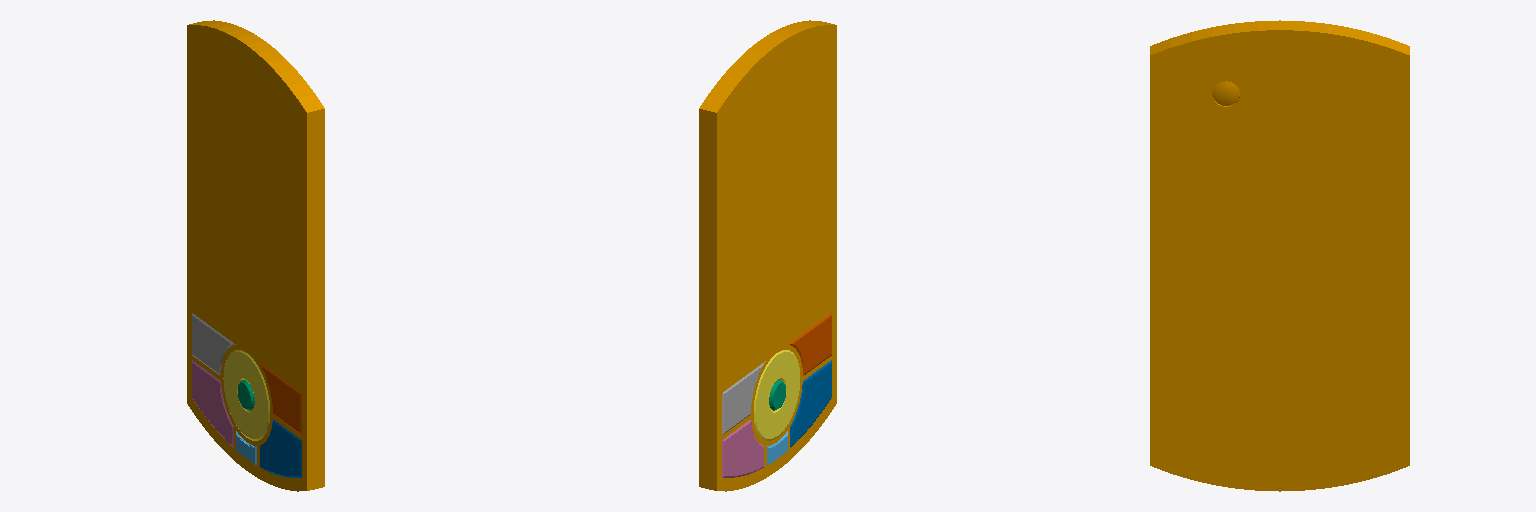
robot.urdf — partnet_7bdffa69c49eb1d7bf653fdedcac4c5b-4:
<?xml version="1.0" ?>
<robot name="partnet_7bdffa69c49eb1d7bf653fdedcac4c5b-4">
	<link name="base"/>
	<link name="link_0">
		<visual name="button-1">
			<origin xyz="0 0 0"/>
			<geometry>
				<mesh filename="textured_objs/original-29.obj"/>
			</geometry>
		</visual>
		<visual name="button-1">
			<origin xyz="0 0 0"/>
			<geometry>
				<mesh filename="textured_objs/original-19.obj"/>
			</geometry>
		</visual>
		<collision>
			<origin xyz="0 0 0"/>
			<geometry>
				<mesh filename="textured_objs/original-29.obj"/>
			</geometry>
		</collision>
		<collision>
			<origin xyz="0 0 0"/>
			<geometry>
				<mesh filename="textured_objs/original-19.obj"/>
			</geometry>
		</collision>
	</link>
	<joint name="joint_0" type="prismatic">
		<origin xyz="0 0 0"/>
		<axis xyz="0 0 -1"/>
		<child link="link_0"/>
		<parent link="link_7"/>
		<limit lower="0" upper="0.005"/>
	</joint>
	<link name="link_1">
		<visual name="button-2">
			<origin xyz="0 0 0"/>
			<geometry>
				<mesh filename="textured_objs/original-1.obj"/>
			</geometry>
		</visual>
		<collision>
			<origin xyz="0 0 0"/>
			<geometry>
				<mesh filename="textured_objs/original-1.obj"/>
			</geometry>
		</collision>
	</link>
	<joint name="joint_1" type="prismatic">
		<origin xyz="0 0 0"/>
		<axis xyz="0 0 -1"/>
		<child link="link_1"/>
		<parent link="link_7"/>
		<limit lower="0" upper="0.005"/>
	</joint>
	<link name="link_2">
		<visual name="button-3">
			<origin xyz="0 0 0"/>
			<geometry>
				<mesh filename="textured_objs/original-8.obj"/>
			</geometry>
		</visual>
		<collision>
			<origin xyz="0 0 0"/>
			<geometry>
				<mesh filename="textured_objs/original-8.obj"/>
			</geometry>
		</collision>
	</link>
	<joint name="joint_2" type="prismatic">
		<origin xyz="0 0 0"/>
		<axis xyz="0 0 -1"/>
		<child link="link_2"/>
		<parent link="link_7"/>
		<limit lower="0" upper="0.005"/>
	</joint>
	<link name="link_3">
		<visual name="button-4">
			<origin xyz="0 0 0"/>
			<geometry>
				<mesh filename="textured_objs/original-25.obj"/>
			</geometry>
		</visual>
		<visual name="button-4">
			<origin xyz="0 0 0"/>
			<geometry>
				<mesh filename="textured_objs/original-17.obj"/>
			</geometry>
		</visual>
		<collision>
			<origin xyz="0 0 0"/>
			<geometry>
				<mesh filename="textured_objs/original-25.obj"/>
			</geometry>
		</collision>
		<collision>
			<origin xyz="0 0 0"/>
			<geometry>
				<mesh filename="textured_objs/original-17.obj"/>
			</geometry>
		</collision>
	</link>
	<joint name="joint_3" type="prismatic">
		<origin xyz="0 0 0"/>
		<axis xyz="0 0 -1"/>
		<child link="link_3"/>
		<parent link="link_7"/>
		<limit lower="0" upper="0.005"/>
	</joint>
	<link name="link_4">
		<visual name="button-5">
			<origin xyz="0 0 0"/>
			<geometry>
				<mesh filename="textured_objs/original-18.obj"/>
			</geometry>
		</visual>
		<visual name="button-5">
			<origin xyz="0 0 0"/>
			<geometry>
				<mesh filename="textured_objs/original-24.obj"/>
			</geometry>
		</visual>
		<collision>
			<origin xyz="0 0 0"/>
			<geometry>
				<mesh filename="textured_objs/original-18.obj"/>
			</geometry>
		</collision>
		<collision>
			<origin xyz="0 0 0"/>
			<geometry>
				<mesh filename="textured_objs/original-24.obj"/>
			</geometry>
		</collision>
	</link>
	<joint name="joint_4" type="prismatic">
		<origin xyz="0 0 0"/>
		<axis xyz="0 0 -1"/>
		<child link="link_4"/>
		<parent link="link_7"/>
		<limit lower="0" upper="0.005"/>
	</joint>
	<link name="link_5">
		<visual name="button-6">
			<origin xyz="0 0 0"/>
			<geometry>
				<mesh filename="textured_objs/original-20.obj"/>
			</geometry>
		</visual>
		<visual name="button-6">
			<origin xyz="0 0 0"/>
			<geometry>
				<mesh filename="textured_objs/original-15.obj"/>
			</geometry>
		</visual>
		<collision>
			<origin xyz="0 0 0"/>
			<geometry>
				<mesh filename="textured_objs/original-20.obj"/>
			</geometry>
		</collision>
		<collision>
			<origin xyz="0 0 0"/>
			<geometry>
				<mesh filename="textured_objs/original-15.obj"/>
			</geometry>
		</collision>
	</link>
	<joint name="joint_5" type="prismatic">
		<origin xyz="0 0 0"/>
		<axis xyz="0 0 -1"/>
		<child link="link_5"/>
		<parent link="link_7"/>
		<limit lower="0" upper="0.005"/>
	</joint>
	<link name="link_6">
		<visual name="button-7">
			<origin xyz="0 0 0"/>
			<geometry>
				<mesh filename="textured_objs/original-16.obj"/>
			</geometry>
		</visual>
		<visual name="button-7">
			<origin xyz="0 0 0"/>
			<geometry>
				<mesh filename="textured_objs/original-23.obj"/>
			</geometry>
		</visual>
		<collision>
			<origin xyz="0 0 0"/>
			<geometry>
				<mesh filename="textured_objs/original-16.obj"/>
			</geometry>
		</collision>
		<collision>
			<origin xyz="0 0 0"/>
			<geometry>
				<mesh filename="textured_objs/original-23.obj"/>
			</geometry>
		</collision>
	</link>
	<joint name="joint_6" type="prismatic">
		<origin xyz="0 0 0"/>
		<axis xyz="0 0 -1"/>
		<child link="link_6"/>
		<parent link="link_7"/>
		<limit lower="0" upper="0.005"/>
	</joint>
	<link name="link_7">
		<visual name="base_body-8">
			<origin xyz="0 0 0"/>
			<geometry>
				<mesh filename="textured_objs/original-21.obj"/>
			</geometry>
		</visual>
		<visual name="base_body-8">
			<origin xyz="0 0 0"/>
			<geometry>
				<mesh filename="textured_objs/original-30.obj"/>
			</geometry>
		</visual>
		<visual name="base_body-8">
			<origin xyz="0 0 0"/>
			<geometry>
				<mesh filename="textured_objs/original-28.obj"/>
			</geometry>
		</visual>
		<visual name="base_body-8">
			<origin xyz="0 0 0"/>
			<geometry>
				<mesh filename="textured_objs/original-22.obj"/>
			</geometry>
		</visual>
		<visual name="base_body-8">
			<origin xyz="0 0 0"/>
			<geometry>
				<mesh filename="textured_objs/original-26.obj"/>
			</geometry>
		</visual>
		<visual name="base_body-8">
			<origin xyz="0 0 0"/>
			<geometry>
				<mesh filename="textured_objs/original-4.obj"/>
			</geometry>
		</visual>
		<visual name="base_body-8">
			<origin xyz="0 0 0"/>
			<geometry>
				<mesh filename="textured_objs/original-3.obj"/>
			</geometry>
		</visual>
		<visual name="base_body-8">
			<origin xyz="0 0 0"/>
			<geometry>
				<mesh filename="textured_objs/original-33.obj"/>
			</geometry>
		</visual>
		<visual name="base_body-8">
			<origin xyz="0 0 0"/>
			<geometry>
				<mesh filename="textured_objs/original-2.obj"/>
			</geometry>
		</visual>
		<visual name="base_body-8">
			<origin xyz="0 0 0"/>
			<geometry>
				<mesh filename="textured_objs/original-13.obj"/>
			</geometry>
		</visual>
		<visual name="base_body-8">
			<origin xyz="0 0 0"/>
			<geometry>
				<mesh filename="textured_objs/original-9.obj"/>
			</geometry>
		</visual>
		<visual name="base_body-8">
			<origin xyz="0 0 0"/>
			<geometry>
				<mesh filename="textured_objs/original-5.obj"/>
			</geometry>
		</visual>
		<visual name="base_body-8">
			<origin xyz="0 0 0"/>
			<geometry>
				<mesh filename="textured_objs/original-27.obj"/>
			</geometry>
		</visual>
		<visual name="base_body-8">
			<origin xyz="0 0 0"/>
			<geometry>
				<mesh filename="textured_objs/original-6.obj"/>
			</geometry>
		</visual>
		<visual name="base_body-8">
			<origin xyz="0 0 0"/>
			<geometry>
				<mesh filename="textured_objs/original-31.obj"/>
			</geometry>
		</visual>
		<visual name="base_body-8">
			<origin xyz="0 0 0"/>
			<geometry>
				<mesh filename="textured_objs/original-11.obj"/>
			</geometry>
		</visual>
		<visual name="base_body-8">
			<origin xyz="0 0 0"/>
			<geometry>
				<mesh filename="textured_objs/original-34.obj"/>
			</geometry>
		</visual>
		<visual name="base_body-8">
			<origin xyz="0 0 0"/>
			<geometry>
				<mesh filename="textured_objs/original-12.obj"/>
			</geometry>
		</visual>
		<visual name="base_body-8">
			<origin xyz="0 0 0"/>
			<geometry>
				<mesh filename="textured_objs/original-32.obj"/>
			</geometry>
		</visual>
		<visual name="base_body-8">
			<origin xyz="0 0 0"/>
			<geometry>
				<mesh filename="textured_objs/original-7.obj"/>
			</geometry>
		</visual>
		<visual name="base_body-8">
			<origin xyz="0 0 0"/>
			<geometry>
				<mesh filename="textured_objs/original-10.obj"/>
			</geometry>
		</visual>
		<visual name="base_body-8">
			<origin xyz="0 0 0"/>
			<geometry>
				<mesh filename="textured_objs/original-14.obj"/>
			</geometry>
		</visual>
		<collision>
			<origin xyz="0 0 0"/>
			<geometry>
				<mesh filename="textured_objs/original-21.obj"/>
			</geometry>
		</collision>
		<collision>
			<origin xyz="0 0 0"/>
			<geometry>
				<mesh filename="textured_objs/original-30.obj"/>
			</geometry>
		</collision>
		<collision>
			<origin xyz="0 0 0"/>
			<geometry>
				<mesh filename="textured_objs/original-28.obj"/>
			</geometry>
		</collision>
		<collision>
			<origin xyz="0 0 0"/>
			<geometry>
				<mesh filename="textured_objs/original-22.obj"/>
			</geometry>
		</collision>
		<collision>
			<origin xyz="0 0 0"/>
			<geometry>
				<mesh filename="textured_objs/original-26.obj"/>
			</geometry>
		</collision>
		<collision>
			<origin xyz="0 0 0"/>
			<geometry>
				<mesh filename="textured_objs/original-4.obj"/>
			</geometry>
		</collision>
		<collision>
			<origin xyz="0 0 0"/>
			<geometry>
				<mesh filename="textured_objs/original-3.obj"/>
			</geometry>
		</collision>
		<collision>
			<origin xyz="0 0 0"/>
			<geometry>
				<mesh filename="textured_objs/original-33.obj"/>
			</geometry>
		</collision>
		<collision>
			<origin xyz="0 0 0"/>
			<geometry>
				<mesh filename="textured_objs/original-2.obj"/>
			</geometry>
		</collision>
		<collision>
			<origin xyz="0 0 0"/>
			<geometry>
				<mesh filename="textured_objs/original-13.obj"/>
			</geometry>
		</collision>
		<collision>
			<origin xyz="0 0 0"/>
			<geometry>
				<mesh filename="textured_objs/original-9.obj"/>
			</geometry>
		</collision>
		<collision>
			<origin xyz="0 0 0"/>
			<geometry>
				<mesh filename="textured_objs/original-5.obj"/>
			</geometry>
		</collision>
		<collision>
			<origin xyz="0 0 0"/>
			<geometry>
				<mesh filename="textured_objs/original-27.obj"/>
			</geometry>
		</collision>
		<collision>
			<origin xyz="0 0 0"/>
			<geometry>
				<mesh filename="textured_objs/original-6.obj"/>
			</geometry>
		</collision>
		<collision>
			<origin xyz="0 0 0"/>
			<geometry>
				<mesh filename="textured_objs/original-31.obj"/>
			</geometry>
		</collision>
		<collision>
			<origin xyz="0 0 0"/>
			<geometry>
				<mesh filename="textured_objs/original-11.obj"/>
			</geometry>
		</collision>
		<collision>
			<origin xyz="0 0 0"/>
			<geometry>
				<mesh filename="textured_objs/original-34.obj"/>
			</geometry>
		</collision>
		<collision>
			<origin xyz="0 0 0"/>
			<geometry>
				<mesh filename="textured_objs/original-12.obj"/>
			</geometry>
		</collision>
		<collision>
			<origin xyz="0 0 0"/>
			<geometry>
				<mesh filename="textured_objs/original-32.obj"/>
			</geometry>
		</collision>
		<collision>
			<origin xyz="0 0 0"/>
			<geometry>
				<mesh filename="textured_objs/original-7.obj"/>
			</geometry>
		</collision>
		<collision>
			<origin xyz="0 0 0"/>
			<geometry>
				<mesh filename="textured_objs/original-10.obj"/>
			</geometry>
		</collision>
		<collision>
			<origin xyz="0 0 0"/>
			<geometry>
				<mesh filename="textured_objs/original-14.obj"/>
			</geometry>
		</collision>
	</link>
	<joint name="joint_7" type="fixed">
		<origin rpy="1.570796326794897 0 -1.570796326794897" xyz="0 0 0"/>
		<child link="link_7"/>
		<parent link="base"/>
	</joint>
</robot>

--- Facts derived from the render (not from the file) ---
The picture shows the robot from 3 angles, left to right: view 1: azimuth 30°, elevation 25°; view 2: azimuth 150°, elevation 25°; view 3: azimuth 270°, elevation 25°; orthographic projection.
Model partnet_7bdffa69c49eb1d7bf653fdedcac4c5b-4 with 9 links and 8 joints (7 prismatic, 1 fixed), rooted at base, posed all joints at 0.
Links seen in each view (by area): view 1: link_7, link_2, link_3, link_5, link_4, link_6; view 2: link_7, link_2, link_5, link_3, link_6, link_4; view 3: link_7.
Link boxes in pixels (x1=…): link_7: x1=187, y1=20, x2=324, y2=491; link_2: x1=223, y1=350, x2=269, y2=440; link_3: x1=260, y1=420, x2=301, y2=477; link_5: x1=192, y1=360, x2=233, y2=447; link_4: x1=258, y1=361, x2=301, y2=434; link_6: x1=192, y1=313, x2=235, y2=375; link_7: x1=699, y1=20, x2=836, y2=491; link_2: x1=754, y1=350, x2=800, y2=440; link_5: x1=722, y1=420, x2=763, y2=477; link_3: x1=790, y1=360, x2=831, y2=447; link_6: x1=722, y1=361, x2=765, y2=434; link_4: x1=788, y1=313, x2=831, y2=375; link_7: x1=1150, y1=20, x2=1409, y2=491.
Size in the robot's own frame: 0.1 by 0.9998 by 1.96 metres.
34 mesh visuals loaded from 34 distinct referenced files (34 OBJ).
